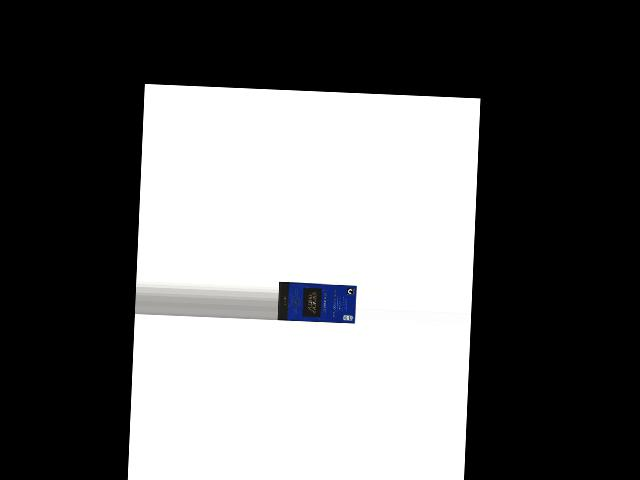chocolate: (277, 281, 355, 324)
